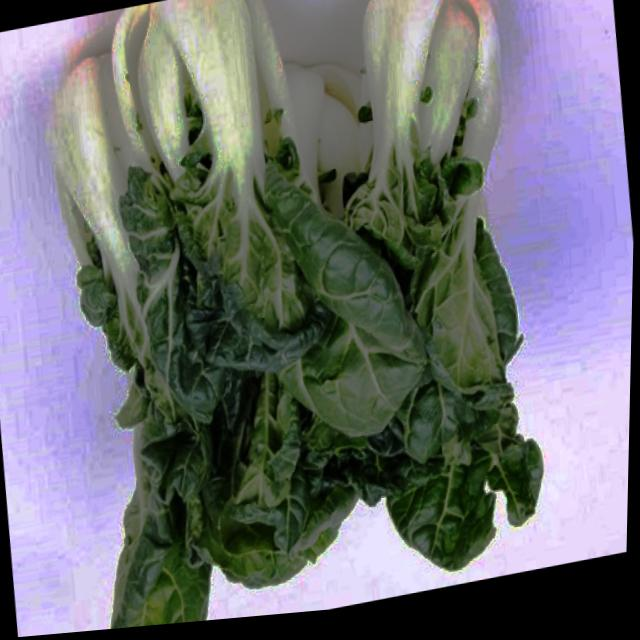chinese_cabbage: (16, 0, 568, 637)
